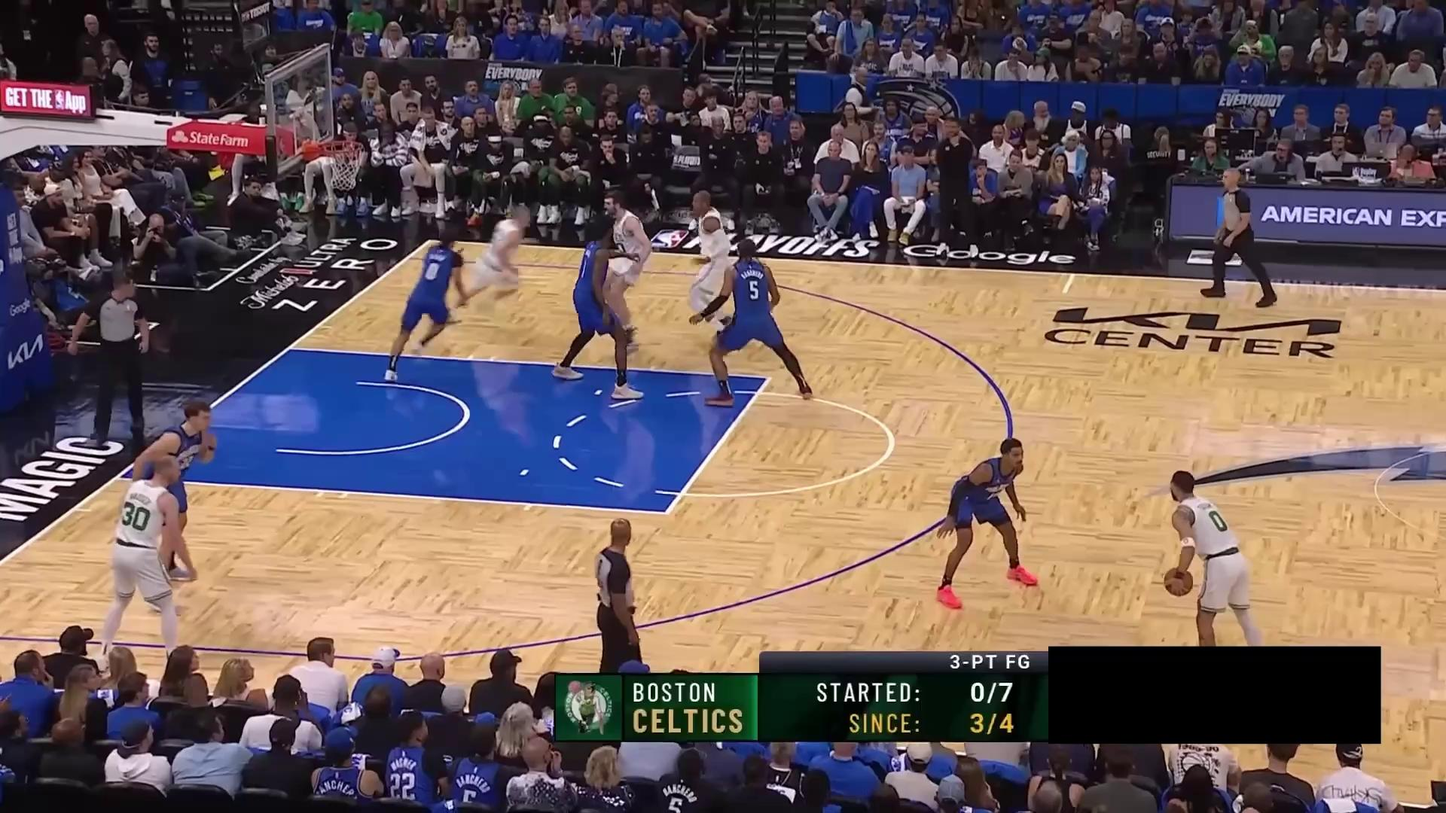ball: (1163, 567, 1194, 597)
number: (120, 498, 153, 532), (1206, 506, 1231, 536), (747, 278, 761, 301), (424, 262, 440, 282)
player: (688, 235, 815, 406), (92, 450, 187, 674), (930, 433, 1035, 613), (550, 219, 649, 402), (128, 395, 221, 585), (381, 224, 473, 384), (597, 182, 656, 360), (451, 199, 537, 318), (685, 185, 742, 337)
player-in-possession: (1155, 469, 1269, 647)
referee: (65, 262, 153, 449), (1201, 165, 1279, 313), (584, 512, 649, 671)
rim: (318, 136, 367, 159)
